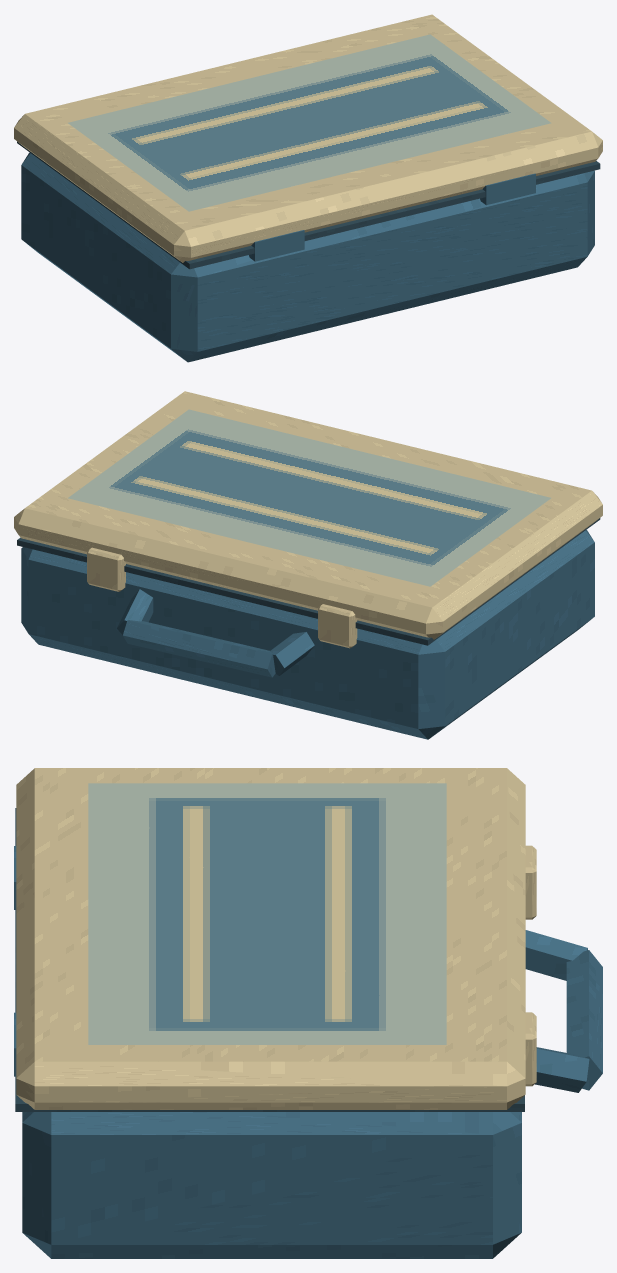
Rendered from lunchbox.glb.
3 renders of one model, top to bottom at view 1: azimuth 30°, elevation 25°; view 2: azimuth 150°, elevation 25°; view 3: azimuth 270°, elevation 25°, orthographic. The views are drawn at different scales.
Visible parts, largest first — view 1: block_molded lunch box, block_two-tone lid inset, block_cream lid, block_blue lid seam, block_back hinge (×2); view 2: block_molded lunch box, block_two-tone lid inset, block_cream lid, block_wide lunchbox grip 1, block_blue lid seam, block_snap tab (×2), block_wide lunchbox grip 0, block_wide lunchbox grip 2; view 3: block_two-tone lid inset, block_cream lid, block_molded lunch box, block_wide lunchbox grip 1, block_wide lunchbox grip 0, block_wide lunchbox grip 2, block_snap tab (×2), block_blue lid seam.
Part boxes in pixels (left/top/right/bottom): block_molded lunch box: left=21, top=152, right=594, bottom=362; block_two-tone lid inset: left=68, top=34, right=551, bottom=211; block_cream lid: left=14, top=14, right=602, bottom=262; block_blue lid seam: left=17, top=141, right=600, bottom=269; block_back hinge (×2): left=249, top=173, right=535, bottom=261; block_molded lunch box: left=21, top=530, right=594, bottom=739; block_two-tone lid inset: left=68, top=409, right=550, bottom=586; block_cream lid: left=14, top=391, right=602, bottom=639; block_wide lunchbox grip 1: left=123, top=620, right=275, bottom=677; block_blue lid seam: left=17, top=518, right=600, bottom=645; block_snap tab (×2): left=87, top=547, right=357, bottom=648; block_wide lunchbox grip 0: left=270, top=632, right=314, bottom=675; block_wide lunchbox grip 2: left=117, top=589, right=153, bottom=634; block_two-tone lid inset: left=88, top=783, right=446, bottom=1044; block_cream lid: left=16, top=768, right=525, bottom=1109; block_molded lunch box: left=22, top=1112, right=521, bottom=1258; block_wide lunchbox grip 1: left=566, top=950, right=602, bottom=1090; block_wide lunchbox grip 0: left=525, top=930, right=587, bottom=980; block_wide lunchbox grip 2: left=535, top=1047, right=589, bottom=1092; block_snap tab (×2): left=525, top=845, right=536, bottom=1086; block_blue lid seam: left=15, top=808, right=524, bottom=1111.
Bounding box in the file's own units: 0.21 × 0.0647 × 0.169.
Materials: 1 (1 with a texture image).
